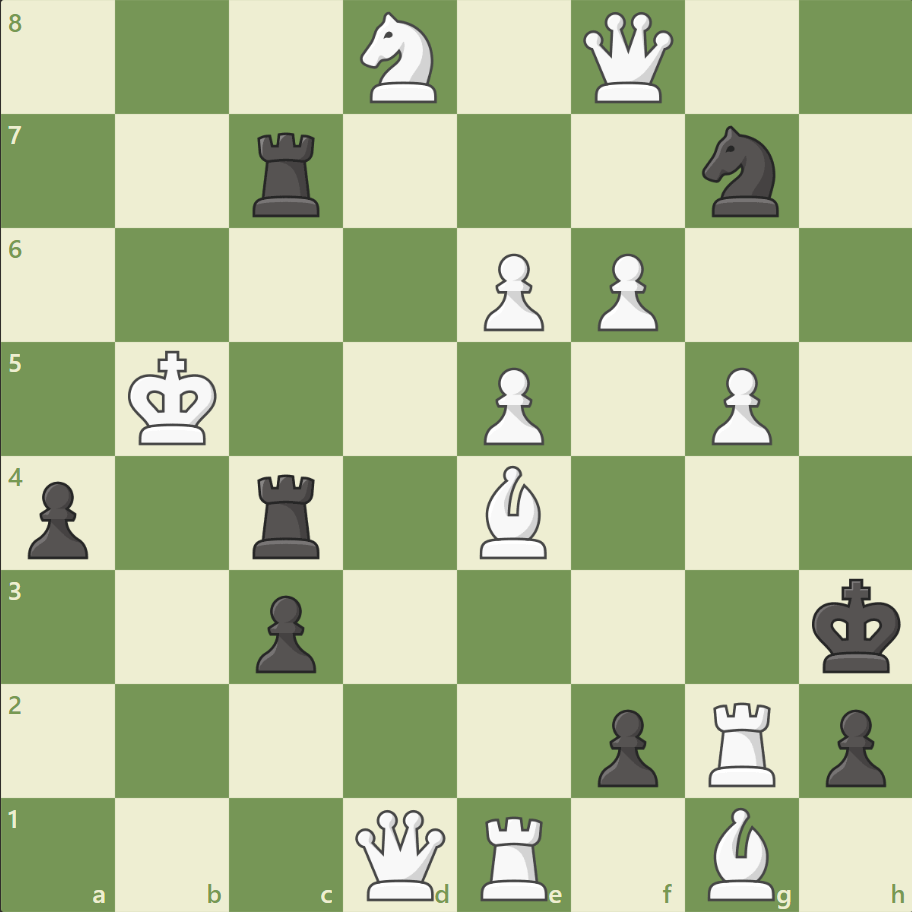B: (471, 460, 555, 563), (698, 801, 782, 904)
K: (124, 344, 224, 452)
N: (351, 7, 449, 110)
P: (474, 246, 549, 337), (474, 359, 549, 450), (701, 359, 776, 450), (588, 246, 662, 337)
Q: (578, 9, 677, 108), (351, 804, 450, 903)
R: (473, 806, 556, 904), (700, 693, 783, 790)
k: (806, 571, 906, 679)
n: (692, 121, 789, 223)
p: (20, 473, 95, 564), (247, 586, 322, 677), (588, 700, 662, 791), (815, 700, 889, 791)
r: (246, 125, 329, 222), (246, 466, 329, 563)
